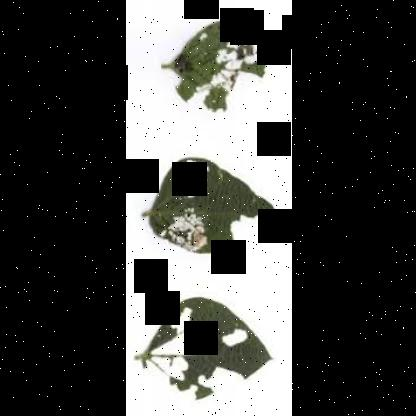agujero: (150, 324, 206, 358), (160, 214, 206, 252), (228, 216, 272, 250), (198, 368, 252, 390), (150, 356, 190, 380), (210, 47, 238, 69), (170, 308, 194, 330), (224, 328, 248, 348), (187, 161, 209, 177), (181, 385, 203, 397), (225, 34, 243, 48), (192, 88, 208, 102), (243, 52, 261, 64), (196, 30, 210, 42), (185, 188, 199, 198), (221, 61, 235, 70), (213, 74, 227, 83), (221, 82, 233, 90)
